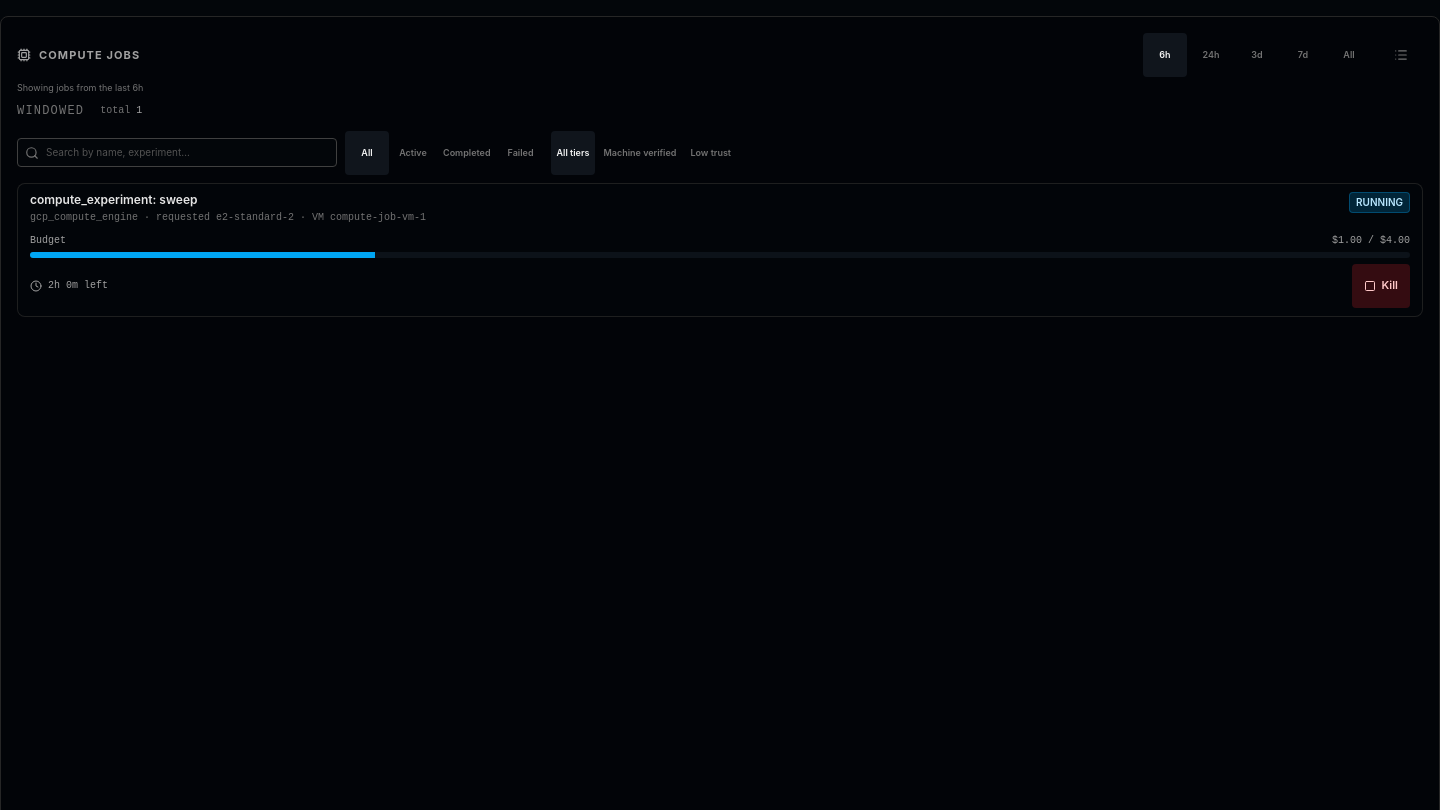
Test: ComputeJobsPanel render + kill › kill failure surfaces the backend explanation, not a generic message
Click the button "Kill". click: point(1381, 286)
box: [1352, 264, 1410, 308]
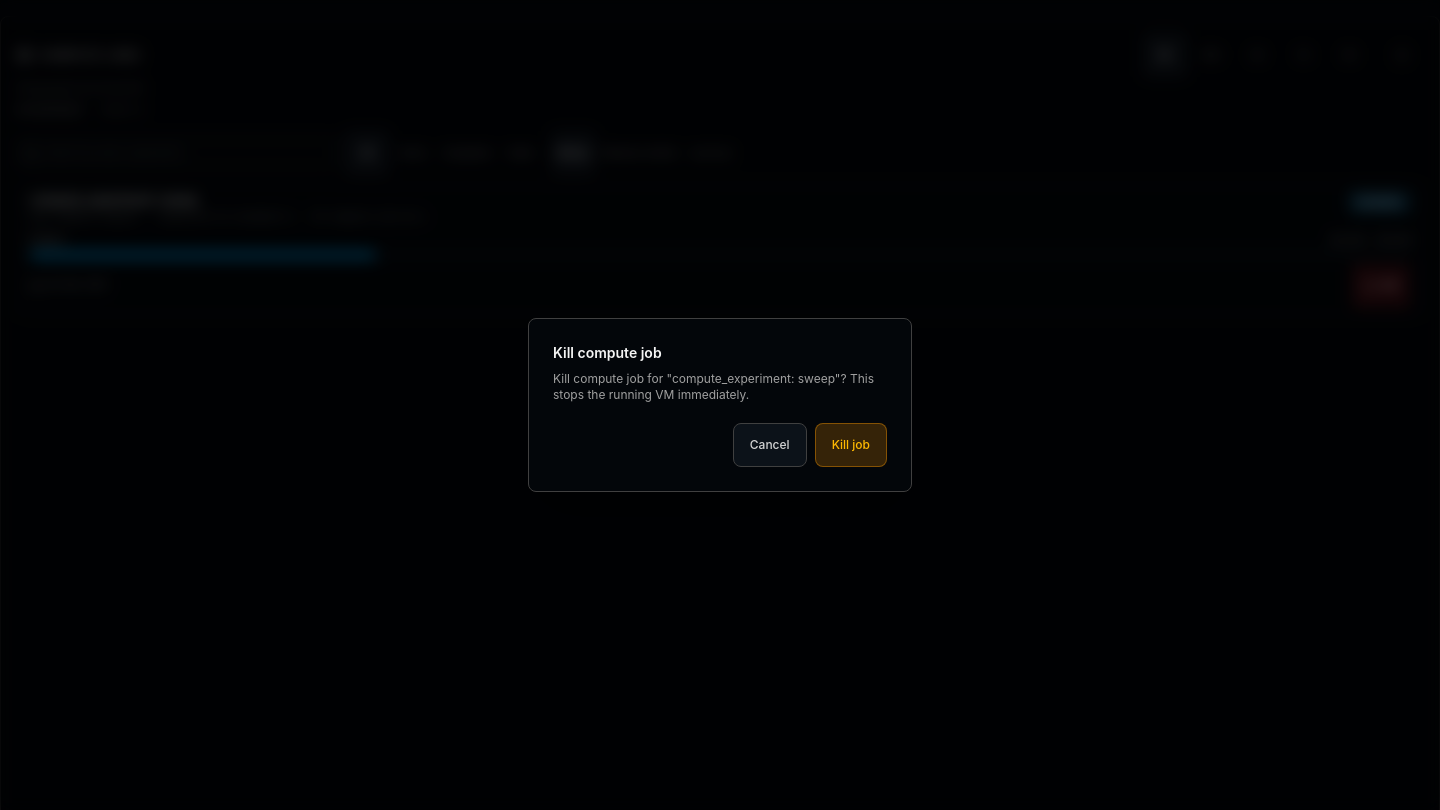
Click the button with test id "confirm-dialog-confirm". click: point(851, 445)
box: [815, 423, 887, 467]
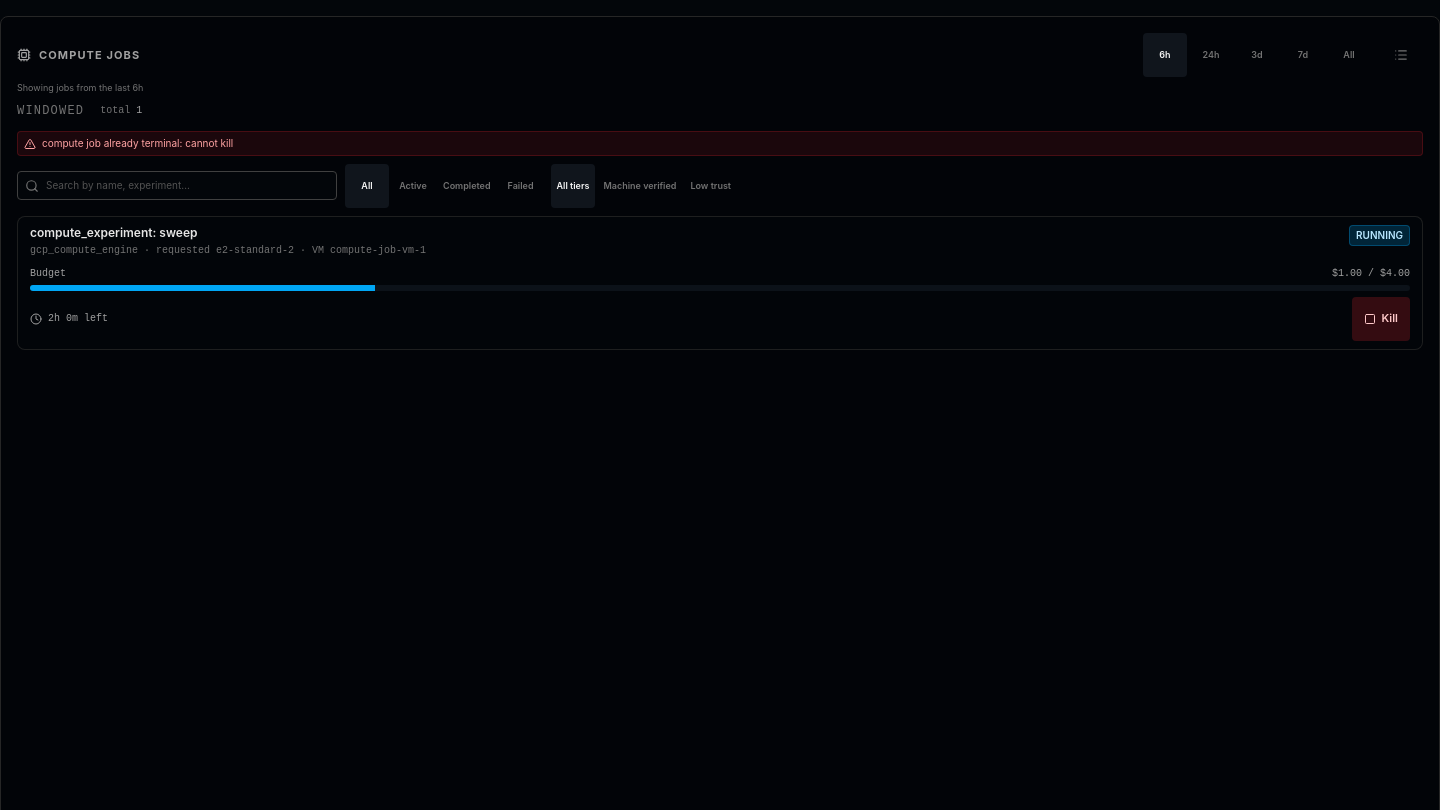
Now the text "compute job already terminal: cannot kill" is shown, box [17, 130, 1423, 156]
